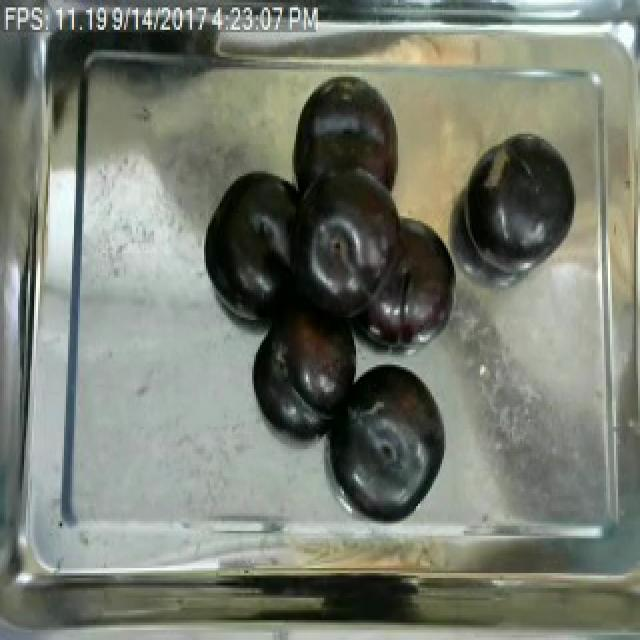Fruit: (114, 44, 304, 226), (378, 44, 542, 246), (320, 355, 452, 523), (464, 126, 584, 278), (198, 164, 302, 327), (356, 206, 464, 355), (248, 298, 358, 444)
